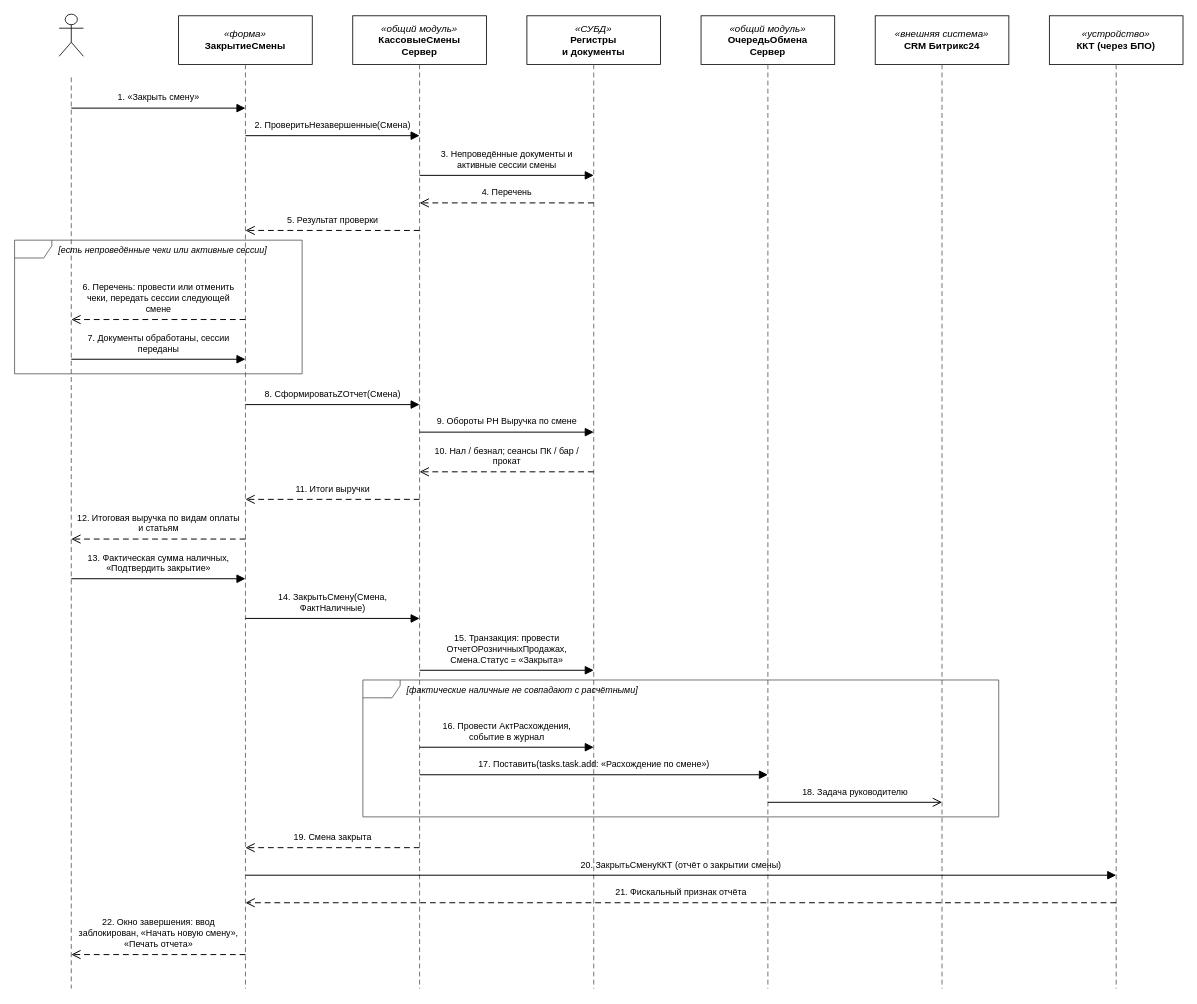
Some shapes in this 1197 by 1004 pixel diagram are drawn without their labels. The box of each missing label's shape, as (x1, y1, x2, y2) in pixels:
alt: (362, 679, 999, 817)
opt: (14, 239, 302, 374)
Администратор: (58, 13, 83, 56)
